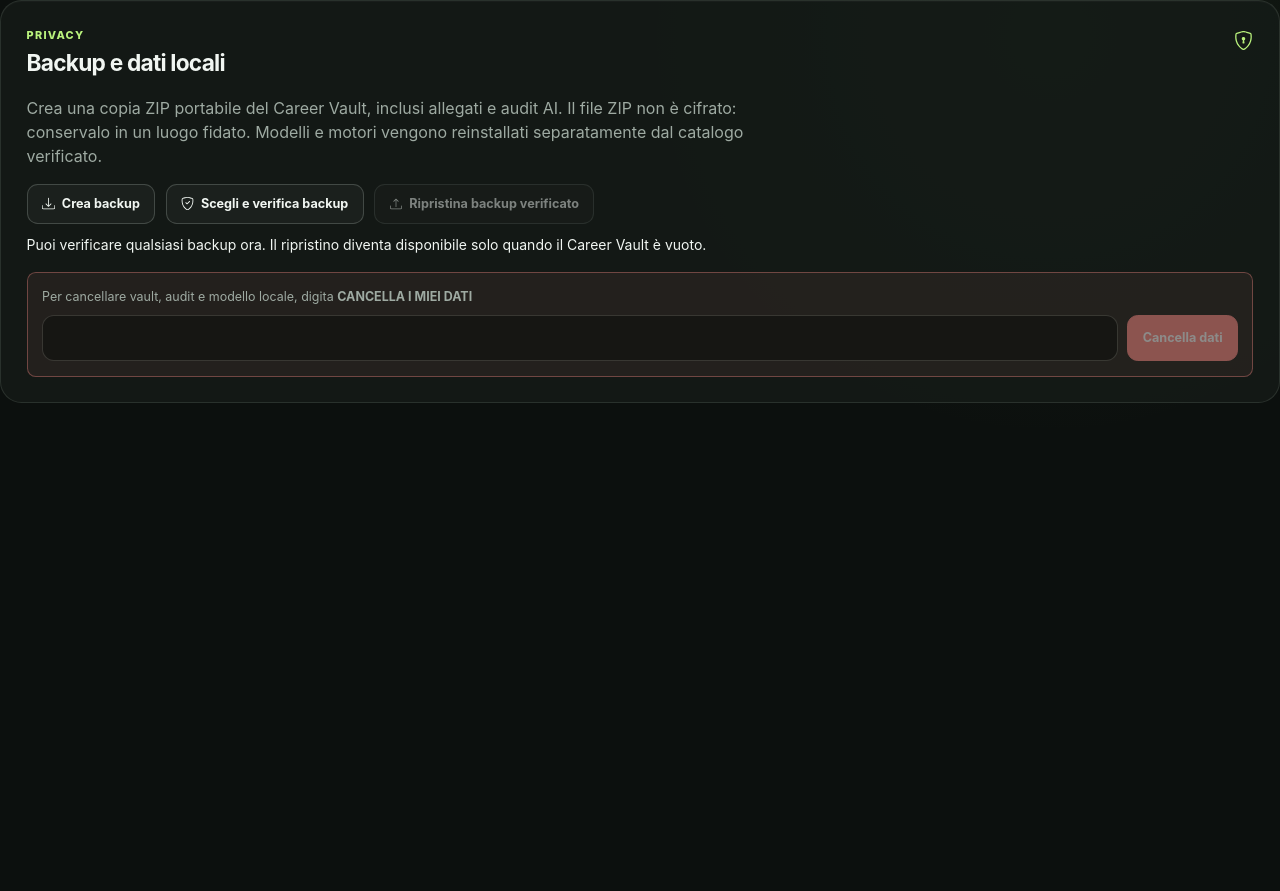
Test case: DataRecoveryPanel › verifies a backup without changing a populated vault and shows a content-free summary
Click the button "Scegli e verifica backup".
click(265, 204)  # box [166,184,364,224]
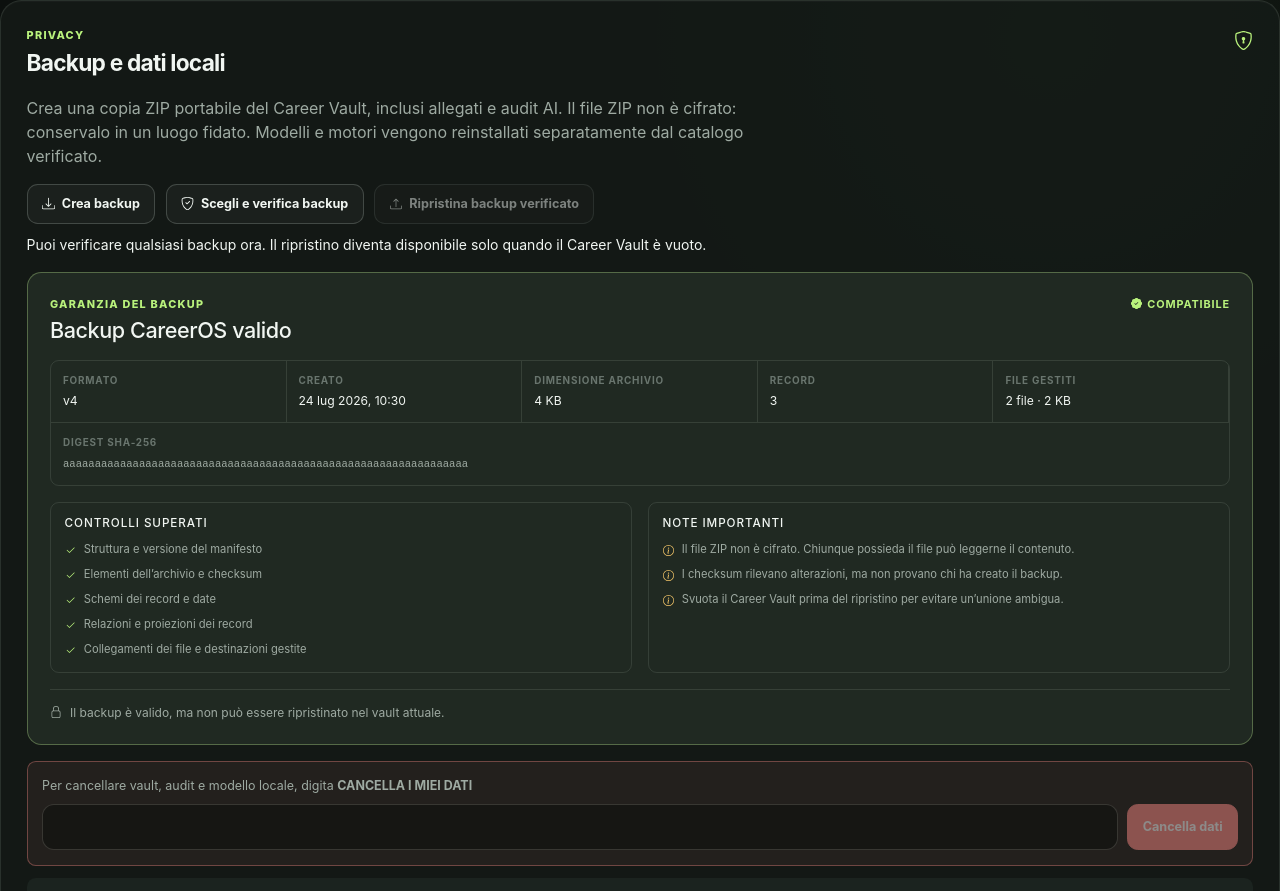
Expected: the heading "Backup CareerOS valido" is shown, [50,318,291,344]
Expected: the text "3" is shown, [770,393,777,408]
Expected: the text "2 file · 2 KB" is shown, [1005,393,1071,408]
